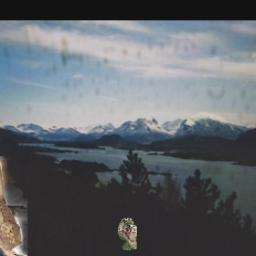Cuckoo: (0, 156, 28, 256)
Sparrow: (117, 217, 137, 250)
